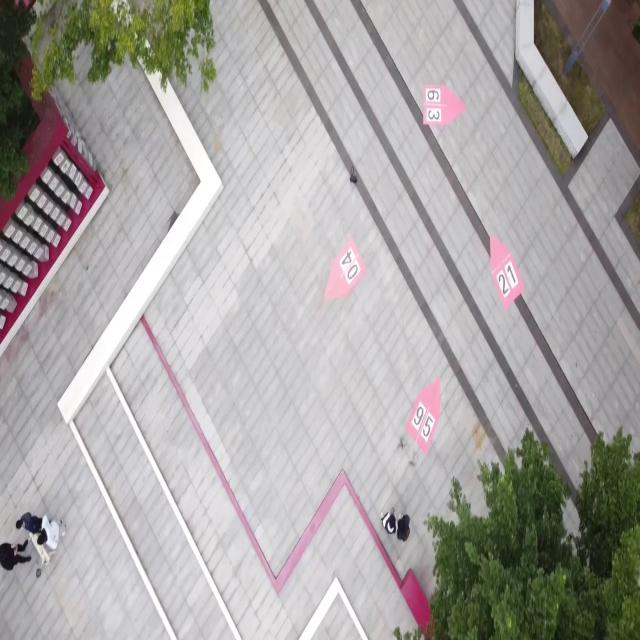-sign-: (406, 378, 442, 457), (325, 237, 366, 302), (489, 235, 524, 310), (422, 84, 466, 129)
